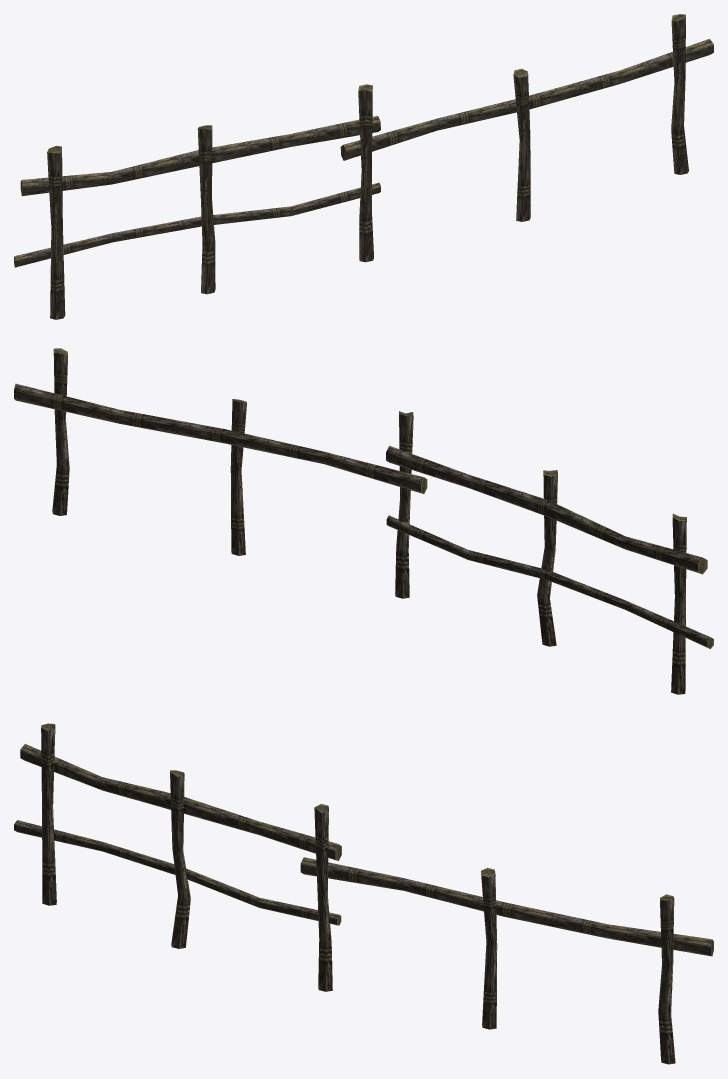
3 views of the same model, one above another, from view 1: azimuth 30°, elevation 25°; view 2: azimuth 150°, elevation 25°; view 3: azimuth 330°, elevation 25° (orthographic). The views are drawn at different scales.
Visible parts, largest first — view 1: Object01; view 2: Object01; view 3: Object01.
Part boxes in pixels (x1,y1,x2,y2): Object01: (14, 14, 713, 319); Object01: (14, 348, 713, 694); Object01: (14, 723, 713, 1064).
Size of the model in its own units: 235 by 58.97 by 21.77.
Materials: 2 (2 with a texture image).
